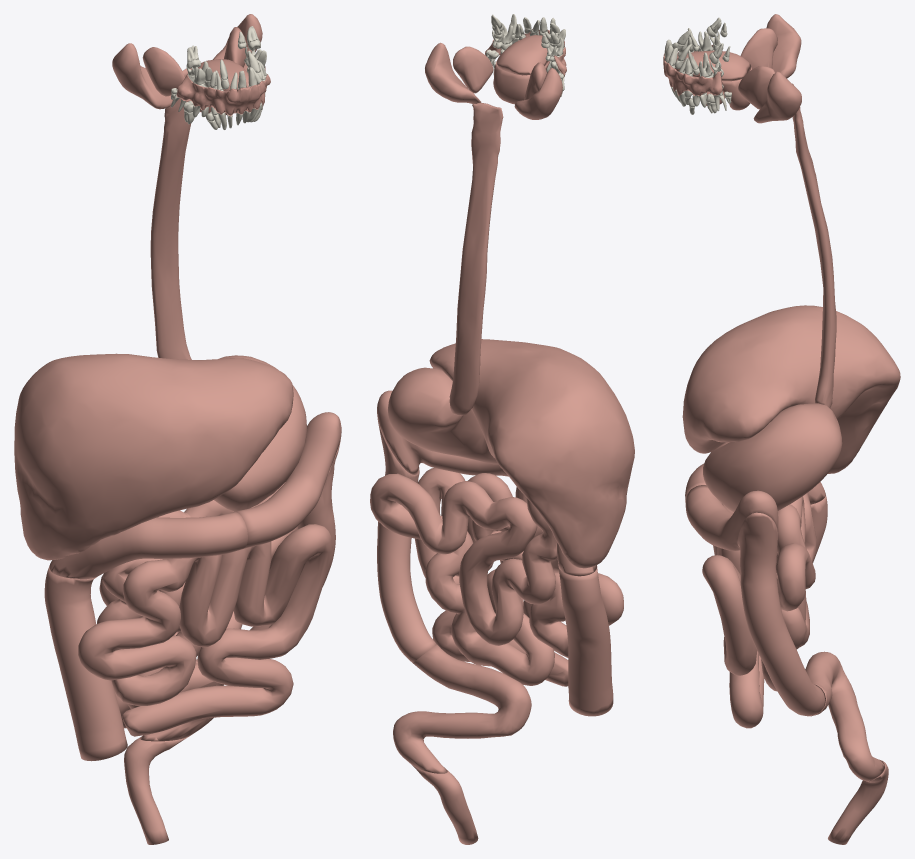
Rendered from pediatric_child_10y_female.digestive.LOD0.glb.
3 views of the same model, side by side, from view 1: azimuth 30°, elevation 25°; view 2: azimuth 150°, elevation 25°; view 3: azimuth 270°, elevation 25° (orthographic). The views are drawn at different scales.
Parts seen in each view (by area): view 1: PEDIATRIC.CHILD_10Y.FEMALE.DIGESTIVE.LIVER, PEDIATRIC.CHILD_10Y.FEMALE.DIGESTIVE.SMALL_INTESTINE_WALL, PEDIATRIC.CHILD_10Y.FEMALE.DIGESTIVE.ASCENDING_COLON_WALL, PEDIATRIC.CHILD_10Y.FEMALE.DIGESTIVE.OESOPHAGUS_WALL, PEDIATRIC.CHILD_10Y.FEMALE.DIGESTIVE.TRANSVERSE_COLON_WALL.R, PEDIATRIC.CHILD_10Y.FEMALE.DIGESTIVE.TRANSVERSE_COLON_WALL.L, PEDIATRIC.CHILD_10Y.FEMALE.DIGESTIVE.STOMACH_WALL, PEDIATRIC.CHILD_10Y.FEMALE.DIGESTIVE.SALIVARY_GLANDS.R, PEDIATRIC.CHILD_10Y.FEMALE.DIGESTIVE.RECTUM_WALL, PEDIATRIC.CHILD_10Y.FEMALE.DIGESTIVE.PERMANENT_CEMENTUM, PEDIATRIC.CHILD_10Y.FEMALE.DIGESTIVE.ORAL_MUCOSA_LIP_AND_CHE, PEDIATRIC.CHILD_10Y.FEMALE.DIGESTIVE.DESCENDING_COLON_WALL (+3 smaller); view 2: PEDIATRIC.CHILD_10Y.FEMALE.DIGESTIVE.SMALL_INTESTINE_WALL, PEDIATRIC.CHILD_10Y.FEMALE.DIGESTIVE.LIVER, PEDIATRIC.CHILD_10Y.FEMALE.DIGESTIVE.OESOPHAGUS_WALL, PEDIATRIC.CHILD_10Y.FEMALE.DIGESTIVE.SIGMOID_COLON_WALL, PEDIATRIC.CHILD_10Y.FEMALE.DIGESTIVE.ASCENDING_COLON_WALL, PEDIATRIC.CHILD_10Y.FEMALE.DIGESTIVE.STOMACH_WALL, PEDIATRIC.CHILD_10Y.FEMALE.DIGESTIVE.DESCENDING_COLON_WALL, PEDIATRIC.CHILD_10Y.FEMALE.DIGESTIVE.SALIVARY_GLANDS.L, PEDIATRIC.CHILD_10Y.FEMALE.DIGESTIVE.TRANSVERSE_COLON_WALL.L, PEDIATRIC.CHILD_10Y.FEMALE.DIGESTIVE.RECTUM_WALL, PEDIATRIC.CHILD_10Y.FEMALE.DIGESTIVE.SALIVARY_GLANDS.R, PEDIATRIC.CHILD_10Y.FEMALE.DIGESTIVE.ORAL_MUCOSA_MOUTH_FLOOR (+2 smaller); view 3: PEDIATRIC.CHILD_10Y.FEMALE.DIGESTIVE.LIVER, PEDIATRIC.CHILD_10Y.FEMALE.DIGESTIVE.SMALL_INTESTINE_WALL, PEDIATRIC.CHILD_10Y.FEMALE.DIGESTIVE.STOMACH_WALL, PEDIATRIC.CHILD_10Y.FEMALE.DIGESTIVE.DESCENDING_COLON_WALL, PEDIATRIC.CHILD_10Y.FEMALE.DIGESTIVE.SIGMOID_COLON_WALL, PEDIATRIC.CHILD_10Y.FEMALE.DIGESTIVE.OESOPHAGUS_WALL, PEDIATRIC.CHILD_10Y.FEMALE.DIGESTIVE.TRANSVERSE_COLON_WALL.L, PEDIATRIC.CHILD_10Y.FEMALE.DIGESTIVE.SALIVARY_GLANDS.L, PEDIATRIC.CHILD_10Y.FEMALE.DIGESTIVE.SALIVARY_GLANDS.R, PEDIATRIC.CHILD_10Y.FEMALE.DIGESTIVE.PERMANENT_CEMENTUM, PEDIATRIC.CHILD_10Y.FEMALE.DIGESTIVE.RECTUM_WALL, PEDIATRIC.CHILD_10Y.FEMALE.DIGESTIVE.ORAL_MUCOSA_LIP_AND_CHE (+5 smaller).
Part boxes in pixels (x1,y1,x2,y2): PEDIATRIC.CHILD_10Y.FEMALE.DIGESTIVE.LIVER: (14, 353, 293, 560); PEDIATRIC.CHILD_10Y.FEMALE.DIGESTIVE.SMALL_INTESTINE_WALL: (78, 482, 332, 736); PEDIATRIC.CHILD_10Y.FEMALE.DIGESTIVE.ASCENDING_COLON_WALL: (44, 568, 127, 761); PEDIATRIC.CHILD_10Y.FEMALE.DIGESTIVE.OESOPHAGUS_WALL: (150, 68, 191, 359); PEDIATRIC.CHILD_10Y.FEMALE.DIGESTIVE.TRANSVERSE_COLON_WALL.R: (49, 512, 247, 579); PEDIATRIC.CHILD_10Y.FEMALE.DIGESTIVE.TRANSVERSE_COLON_WALL.L: (234, 412, 341, 548); PEDIATRIC.CHILD_10Y.FEMALE.DIGESTIVE.STOMACH_WALL: (214, 355, 307, 511); PEDIATRIC.CHILD_10Y.FEMALE.DIGESTIVE.SALIVARY_GLANDS.R: (112, 43, 227, 114); PEDIATRIC.CHILD_10Y.FEMALE.DIGESTIVE.RECTUM_WALL: (124, 736, 188, 844); PEDIATRIC.CHILD_10Y.FEMALE.DIGESTIVE.PERMANENT_CEMENTUM: (171, 26, 266, 129); PEDIATRIC.CHILD_10Y.FEMALE.DIGESTIVE.ORAL_MUCOSA_LIP_AND_CHE: (176, 66, 270, 116); PEDIATRIC.CHILD_10Y.FEMALE.DIGESTIVE.DESCENDING_COLON_WALL: (250, 440, 340, 630); PEDIATRIC.CHILD_10Y.FEMALE.DIGESTIVE.SMALL_INTESTINE_WALL: (370, 468, 623, 686); PEDIATRIC.CHILD_10Y.FEMALE.DIGESTIVE.LIVER: (429, 339, 634, 568); PEDIATRIC.CHILD_10Y.FEMALE.DIGESTIVE.OESOPHAGUS_WALL: (449, 102, 503, 415); PEDIATRIC.CHILD_10Y.FEMALE.DIGESTIVE.SIGMOID_COLON_WALL: (393, 644, 531, 773); PEDIATRIC.CHILD_10Y.FEMALE.DIGESTIVE.ASCENDING_COLON_WALL: (559, 566, 613, 716); PEDIATRIC.CHILD_10Y.FEMALE.DIGESTIVE.STOMACH_WALL: (388, 367, 497, 464); PEDIATRIC.CHILD_10Y.FEMALE.DIGESTIVE.DESCENDING_COLON_WALL: (377, 419, 436, 662); PEDIATRIC.CHILD_10Y.FEMALE.DIGESTIVE.SALIVARY_GLANDS.L: (425, 42, 493, 103); PEDIATRIC.CHILD_10Y.FEMALE.DIGESTIVE.TRANSVERSE_COLON_WALL.L: (377, 390, 508, 476); PEDIATRIC.CHILD_10Y.FEMALE.DIGESTIVE.RECTUM_WALL: (412, 765, 478, 844); PEDIATRIC.CHILD_10Y.FEMALE.DIGESTIVE.SALIVARY_GLANDS.R: (514, 62, 562, 119); PEDIATRIC.CHILD_10Y.FEMALE.DIGESTIVE.ORAL_MUCOSA_MOUTH_FLOOR: (496, 35, 548, 75); PEDIATRIC.CHILD_10Y.FEMALE.DIGESTIVE.LIVER: (682, 305, 900, 473); PEDIATRIC.CHILD_10Y.FEMALE.DIGESTIVE.SMALL_INTESTINE_WALL: (702, 492, 816, 728); PEDIATRIC.CHILD_10Y.FEMALE.DIGESTIVE.STOMACH_WALL: (703, 403, 842, 511); PEDIATRIC.CHILD_10Y.FEMALE.DIGESTIVE.DESCENDING_COLON_WALL: (737, 512, 825, 716); PEDIATRIC.CHILD_10Y.FEMALE.DIGESTIVE.SIGMOID_COLON_WALL: (805, 651, 884, 781); PEDIATRIC.CHILD_10Y.FEMALE.DIGESTIVE.OESOPHAGUS_WALL: (792, 83, 836, 408); PEDIATRIC.CHILD_10Y.FEMALE.DIGESTIVE.TRANSVERSE_COLON_WALL.L: (685, 485, 778, 550); PEDIATRIC.CHILD_10Y.FEMALE.DIGESTIVE.SALIVARY_GLANDS.L: (706, 66, 801, 123); PEDIATRIC.CHILD_10Y.FEMALE.DIGESTIVE.SALIVARY_GLANDS.R: (740, 14, 801, 78); PEDIATRIC.CHILD_10Y.FEMALE.DIGESTIVE.PERMANENT_CEMENTUM: (664, 17, 731, 114); PEDIATRIC.CHILD_10Y.FEMALE.DIGESTIVE.RECTUM_WALL: (828, 760, 888, 844); PEDIATRIC.CHILD_10Y.FEMALE.DIGESTIVE.ORAL_MUCOSA_LIP_AND_CHE: (663, 45, 722, 96).
Bounding box in the file's own units: 0.22 × 0.6226 × 0.1642.
